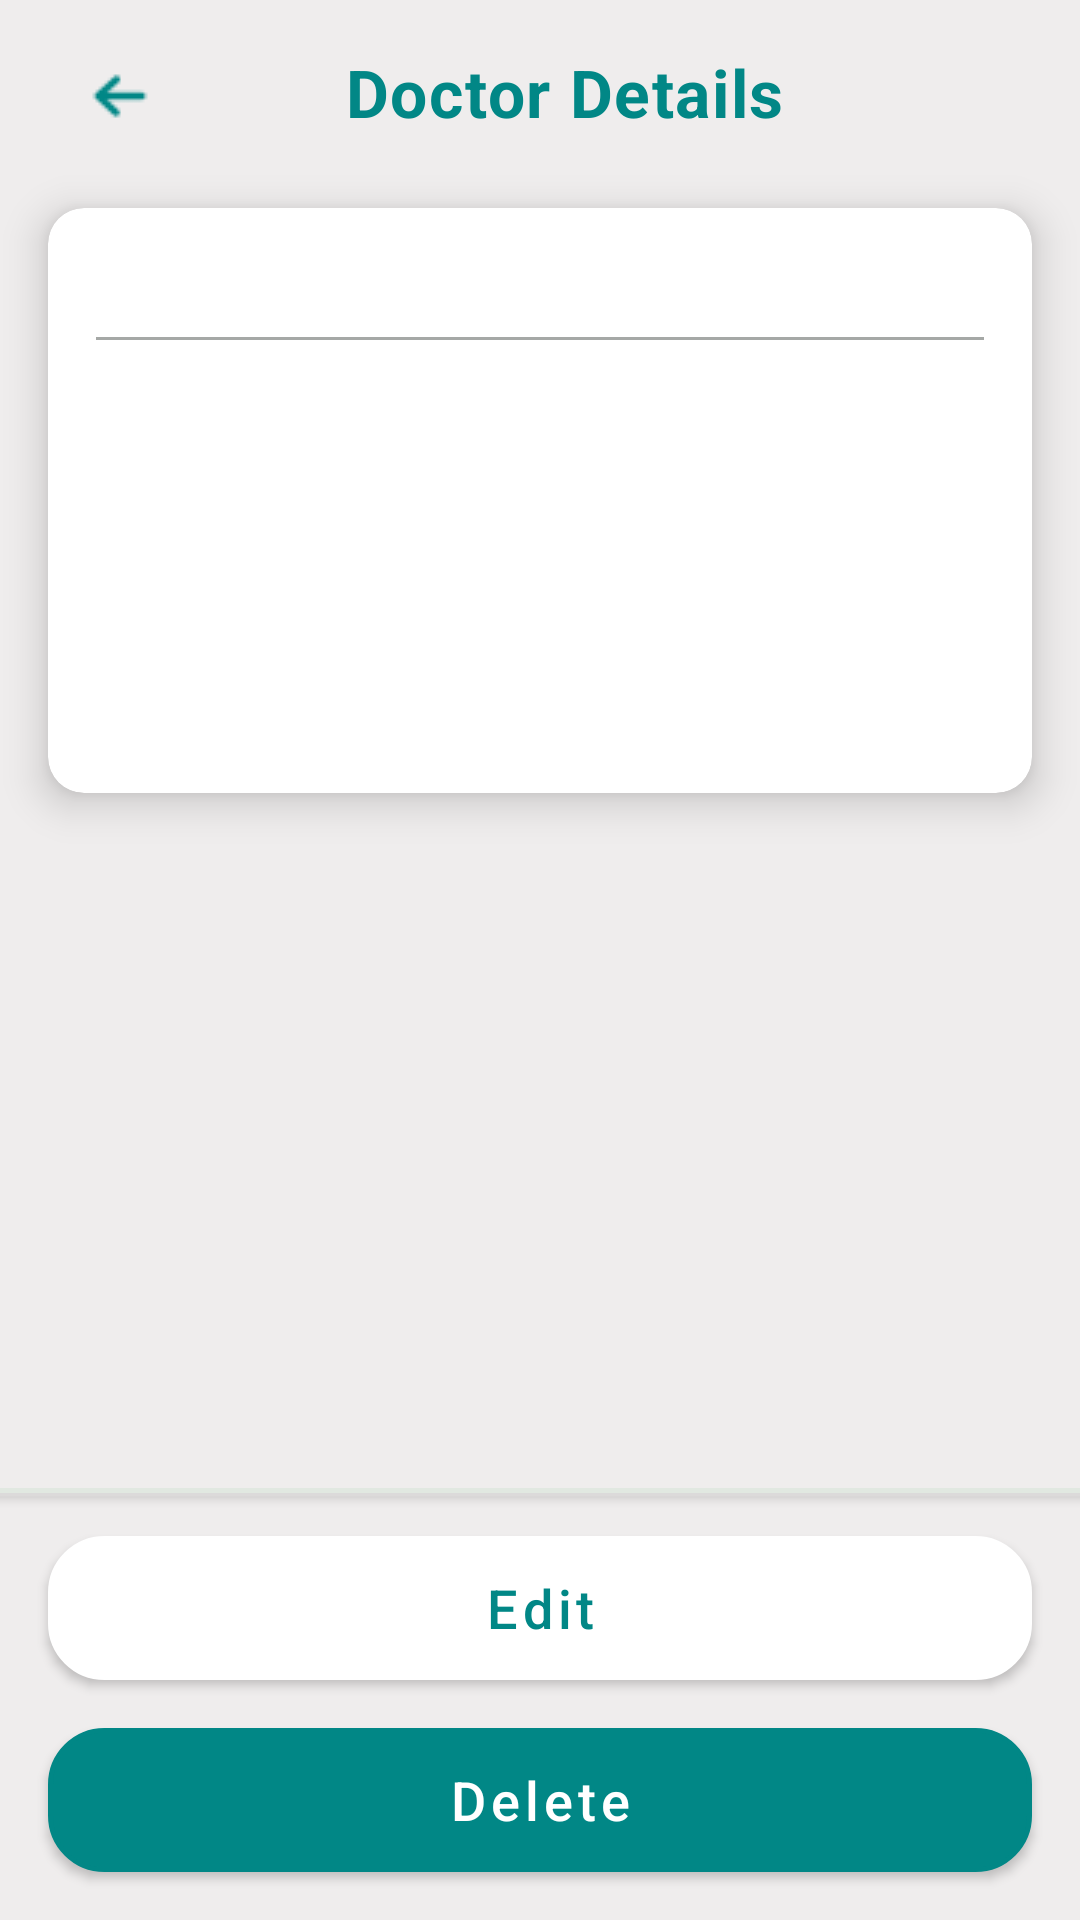

Icons on this 1080w x 1920h Android screen, each with its box as (x1, y1, x2, y2):
back: (93, 74, 147, 118)
